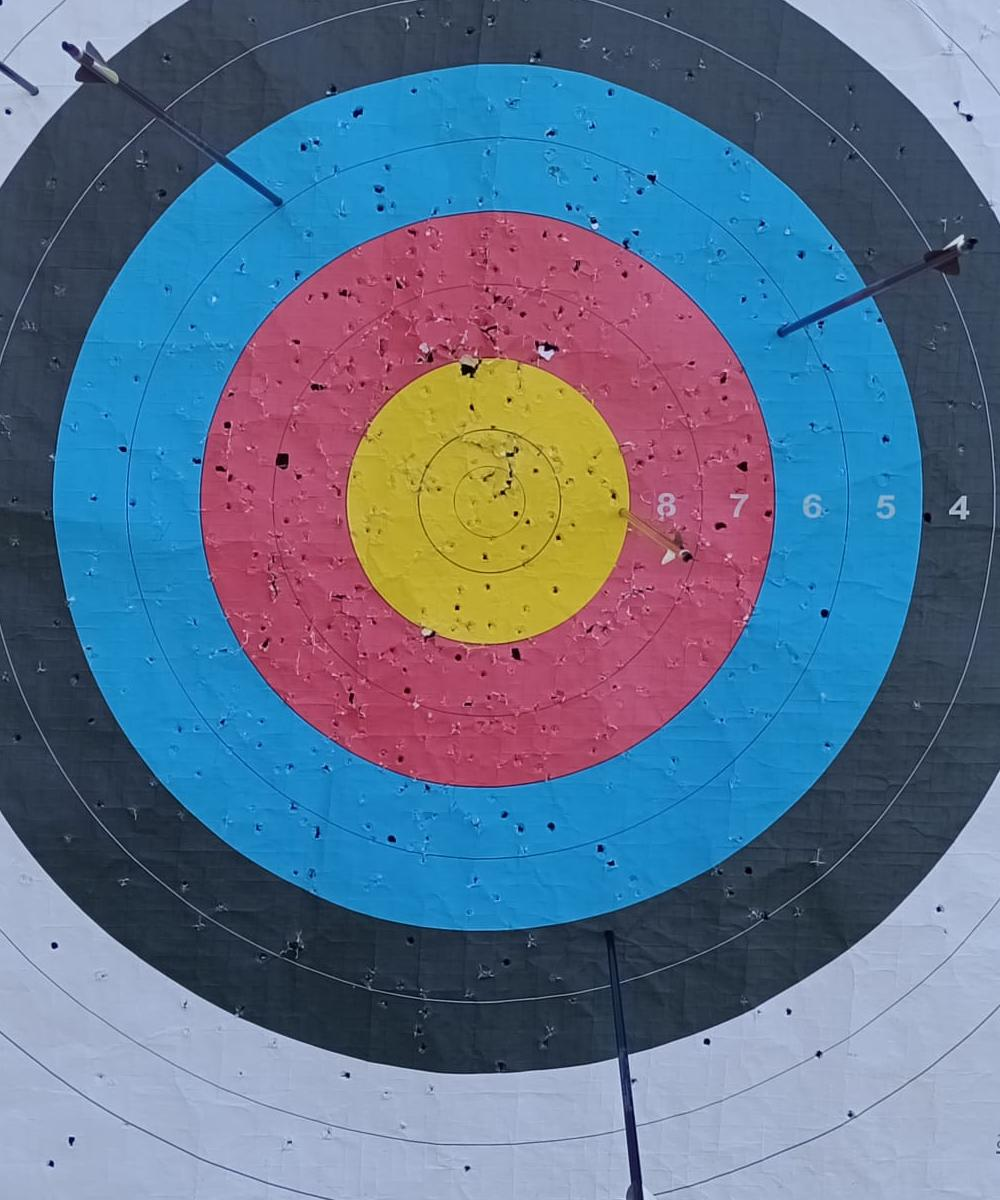10-Ring: (388, 401, 590, 603)
2-Ring: (0, 0, 1000, 1151)
3-Ring: (0, 0, 1000, 1077)
4-Ring: (0, 0, 993, 1002)
5-Ring: (41, 59, 929, 940)
6-Ring: (129, 140, 845, 857)
7-Ring: (200, 212, 773, 787)
8-Ring: (273, 288, 700, 717)
9-Ring: (294, 309, 680, 695)
Arrow: (49, 29, 284, 231), (774, 228, 988, 350), (584, 932, 656, 1200), (618, 492, 697, 577)
